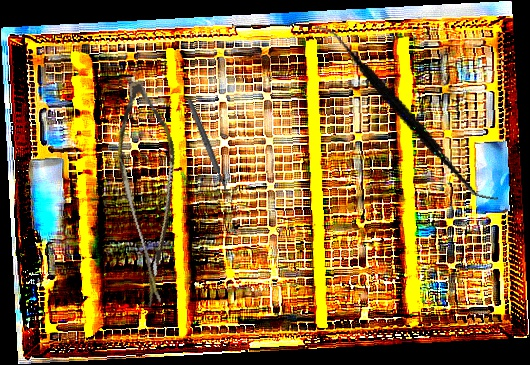Micro Scissor: (87, 76, 216, 309)
Spatula Surgical: (283, 24, 530, 202)
Surgical Spoon: (185, 96, 234, 205)
